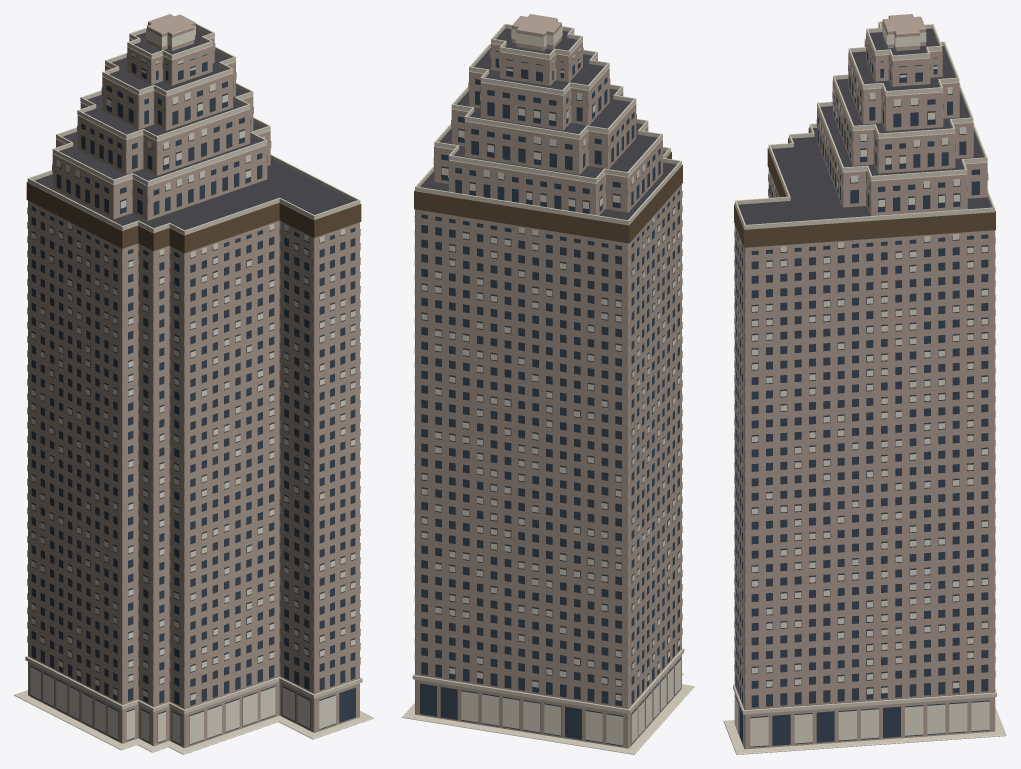
The model's file is 333-bush-street.glb.
The picture shows the model from 3 angles, left to right: view 1: azimuth 30°, elevation 25°; view 2: azimuth 150°, elevation 25°; view 3: azimuth 270°, elevation 25°; orthographic projection. The views are drawn at different scales.
Visible parts, largest first — view 1: 333-bush-street_body, 333-bush-street_night_glow; view 2: 333-bush-street_body, 333-bush-street_night_glow; view 3: 333-bush-street_body, 333-bush-street_night_glow.
Part boxes in pixels (bbox=[...]): 333-bush-street_body: bbox=[14, 14, 373, 754]; 333-bush-street_night_glow: bbox=[30, 24, 355, 744]; 333-bush-street_body: bbox=[402, 14, 694, 754]; 333-bush-street_night_glow: bbox=[421, 25, 680, 745]; 333-bush-street_body: bbox=[723, 14, 1006, 754]; 333-bush-street_night_glow: bbox=[735, 22, 989, 746].
Bounding box in the file's own units: 58.77 × 151 × 57.66.
